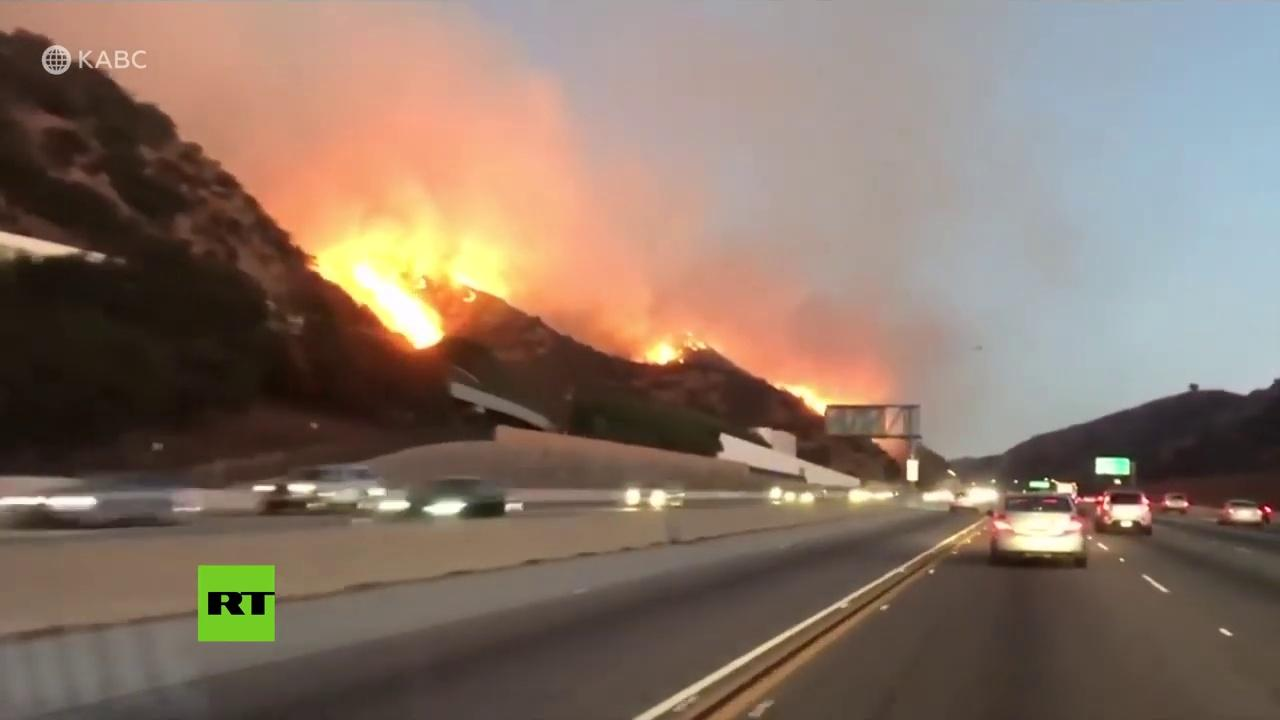Fire: (324, 216, 507, 350), (772, 377, 827, 415), (639, 338, 684, 368)
